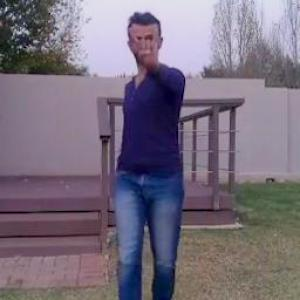takeoff-hand: (130, 10, 170, 66)
